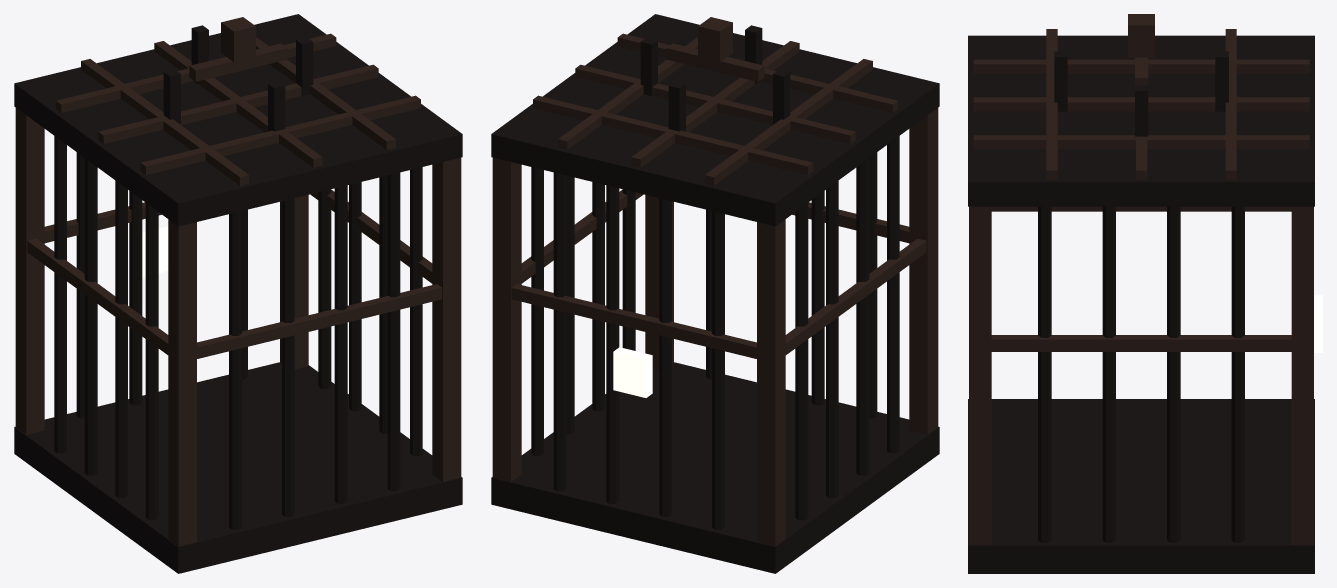
File: hanging_cage.glb
The picture shows the model from 3 angles, left to right: view 1: azimuth 30°, elevation 25°; view 2: azimuth 150°, elevation 25°; view 3: azimuth 270°, elevation 25°; orthographic projection. The views are drawn at different scales.
Visible parts, largest first — view 1: hanging_cage; view 2: hanging_cage; view 3: hanging_cage.
Part boxes in pixels (x1,y1,x2,y2): hanging_cage: [14, 14, 462, 573]; hanging_cage: [491, 14, 939, 573]; hanging_cage: [968, 14, 1322, 573].
Bounding box in the file's own units: 1.55 × 2.37 × 1.58.
